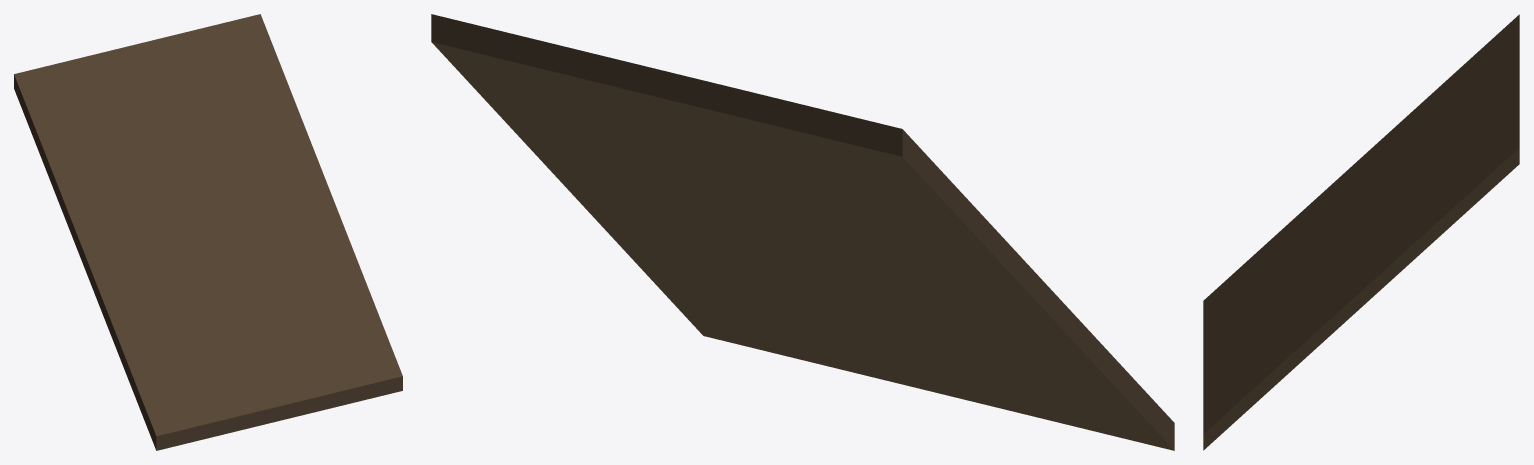
The model's file is dach_2x2.glb.
3 renders of one model, left to right at view 1: azimuth 30°, elevation 25°; view 2: azimuth 150°, elevation 25°; view 3: azimuth 270°, elevation 25°, orthographic. The views are drawn at different scales.
Parts seen in each view (by area): view 1: dach_2x2; view 2: dach_2x2; view 3: dach_2x2.
Boxes of the visible parts, x1,y1,x2,y2 form: dach_2x2: (14,14,402,450); dach_2x2: (431,14,1174,450); dach_2x2: (1203,14,1519,450).
Bounding box in the file's own units: 2 × 2.11 × 2.
